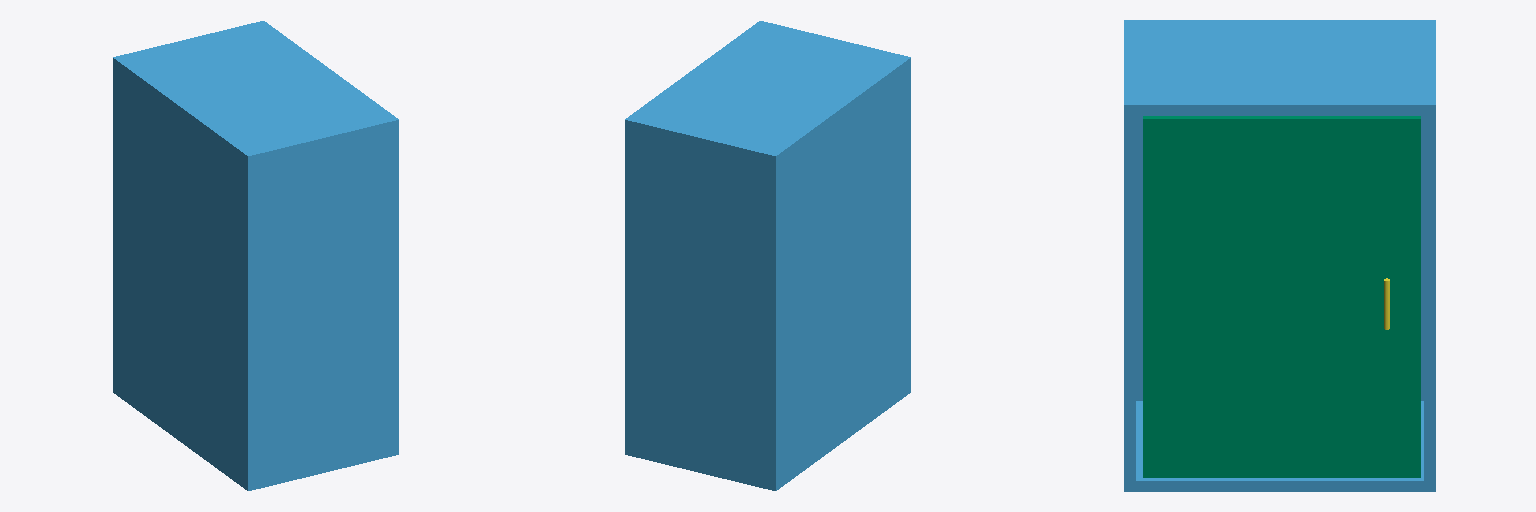
The robot description file, URDF, robot "my_cabinet":
<?xml version="1.0" ?>
<robot name="my_cabinet">
	<link name="world"/>
	<joint name="virtual_joint" type="fixed">
		<parent link="world"/>
		<child link="base_cabinet_link"/>
		<origin xyz="0.0 0.0 0.0" rpy="0.0 0.0 0.0"/>
	</joint>
	<link name="base_cabinet_link">
		<visual>
			<origin xyz="0.0 -0.0025 -0.30871331268416435" rpy="0.0 0.0 0.0"/>
			<geometry>
				<box size="0.3 0.4656252612158338 0.018"/>
			</geometry>
		</visual>
		<collision name="base_cabinet_link_collision_0">
			<origin xyz="0.0 -0.0025 -0.30871331268416435" rpy="0.0 0.0 0.0"/>
			<geometry>
				<box size="0.3 0.4656252612158338 0.018"/>
			</geometry>
		</collision>
		<visual>
			<origin xyz="0.0 0.22131263060791692 0.0" rpy="0.0 0.0 0.0"/>
			<geometry>
				<box size="0.3 0.018 0.6354266253683287"/>
			</geometry>
		</visual>
		<collision name="base_cabinet_link_collision_1">
			<origin xyz="0.0 0.22131263060791692 0.0" rpy="0.0 0.0 0.0"/>
			<geometry>
				<box size="0.3 0.018 0.6354266253683287"/>
			</geometry>
		</collision>
		<visual>
			<origin xyz="0.0 -0.22631263060791693 0.0" rpy="0.0 0.0 0.0"/>
			<geometry>
				<box size="0.3 0.018 0.6354266253683287"/>
			</geometry>
		</visual>
		<collision name="base_cabinet_link_collision_2">
			<origin xyz="0.0 -0.22631263060791693 0.0" rpy="0.0 0.0 0.0"/>
			<geometry>
				<box size="0.3 0.018 0.6354266253683287"/>
			</geometry>
		</collision>
		<visual>
			<origin xyz="0.0 -0.0025 0.30871331268416435" rpy="0.0 0.0 0.0"/>
			<geometry>
				<box size="0.3 0.4656252612158338 0.018"/>
			</geometry>
		</visual>
		<collision name="base_cabinet_link_collision_3">
			<origin xyz="0.0 -0.0025 0.30871331268416435" rpy="0.0 0.0 0.0"/>
			<geometry>
				<box size="0.3 0.4656252612158338 0.018"/>
			</geometry>
		</collision>
		<visual>
			<origin xyz="-0.141 -0.0025 0.0" rpy="0.0 0.0 0.0"/>
			<geometry>
				<box size="0.018 0.4656252612158338 0.6354266253683287"/>
			</geometry>
		</visual>
		<collision name="base_cabinet_link_collision_4">
			<origin xyz="-0.141 -0.0025 0.0" rpy="0.0 0.0 0.0"/>
			<geometry>
				<box size="0.018 0.4656252612158338 0.6354266253683287"/>
			</geometry>
		</collision>
		<inertial>
			<mass value="0.200000"/>
			<inertia ixx="0.010343" ixy="0.0" ixz="0.0" iyy="0.008229" iyz="0.0" izz="0.005113"/>
		</inertial>
	</link>
	<link name="door_link">
		<visual>
			<origin xyz="0.0 -0.2073126306079169 0.0"/>
			<geometry>
				<box size="0.018 0.4146252612158338 0.5894266253683287"/>
			</geometry>
		</visual>
		<collision name="door_link_collision">
			<origin xyz="0.0 -0.2073126306079169 0.0"/>
			<geometry>
				<box size="0.018 0.4146252612158338 0.5894266253683287"/>
			</geometry>
		</collision>
		<inertial>
			<mass value="0.200000"/>
			<inertia ixx="0.008656" ixy="0.0" ixz="0.0" iyy="0.005796" iyz="0.0" izz="0.002871"/>
		</inertial>
	</link>
	<joint name="door_joint" type="revolute">
		<origin xyz="0.141 -0.2073126306079169 0.0" rpy="0.000000 -0.000000 3.141593"/>
		<axis xyz="0 0 1"/>
		<parent link="base_cabinet_link"/>
		<child link="door_link"/>
		<limit effort="50" lower="-1.658062789394613" upper="0" velocity="10"/>
		<dynamics friction="3.5" damping="3.5"/>
	</joint>
	<link name="handle_link">
		<visual>
			<origin xyz="0.0 0.0 0.0" rpy="0.0 0.0 0.0"/>
			<geometry>
				<cylinder length="0.08" radius="0.005"/>
			</geometry>
		</visual>
		<collision name="handle_link_collision_0">
			<origin xyz="0.0 0.0 0.0" rpy="0.0 0.0 0.0"/>
			<geometry>
				<cylinder length="0.08" radius="0.005"/>
			</geometry>
		</collision>
		<visual>
			<origin xyz="-0.01 0.0 0.02" rpy="0.0 1.5707963267948966 0.0"/>
			<geometry>
				<cylinder length="0.02" radius="0.003"/>
			</geometry>
		</visual>
		<collision name="handle_link_collision_1">
			<origin xyz="-0.01 0.0 0.02" rpy="0.0 1.5707963267948966 0.0"/>
			<geometry>
				<cylinder length="0.01" radius="0.003"/>
			</geometry>
		</collision>
		<visual>
			<origin xyz="-0.01 0.0 -0.02" rpy="0.0 1.5707963267948966 0.0"/>
			<geometry>
				<cylinder length="0.02" radius="0.003"/>
			</geometry>
		</visual>
		<collision name="handle_link_collision_2">
			<origin xyz="-0.01 0.0 -0.02" rpy="0.0 1.5707963267948966 0.0"/>
			<geometry>
				<cylinder length="0.02" radius="0.003"/>
			</geometry>
		</collision>
		<inertial>
			<mass value="0.050000"/>
			<inertia ixx="0.000027" ixy="0.0" ixz="0.0" iyy="0.000029" iyz="0.0" izz="0.000003"/>
		</inertial>
	</link>
	<joint name="handle_joint" type="fixed">
		<origin xyz="-0.028999999999999998 -0.36462526121583383 0.0" rpy="0.000000 -0.000000 3.141593"/>
		<parent link="door_link"/>
		<child link="handle_link"/>
	</joint>
	<gazebo reference="base_cabinet_link">
		<sensor name="main_sensor" type="contact">
			<selfCollide>true</selfCollide>
			<alwaysOn>true</alwaysOn>
			<updateRate>5.0</updateRate>
			<material>Gazebo/Red</material>
			<contact>
				<collision>base_cabinet_link_collision_0_collision</collision>
				<collision>base_cabinet_link_collision_1_collision</collision>
				<collision>base_cabinet_link_collision_2_collision</collision>
				<collision>base_cabinet_link_collision_3_collision</collision>
				<collision>base_cabinet_link_collision_4_collision</collision>
			</contact>
			<plugin name="gazebo_ros_bumper_controller" filename="libgazebo_ros_bumper.so">
				<bumperTopicName>/contact</bumperTopicName>
				<frameName>world</frameName>
			</plugin>
		</sensor>
	</gazebo>
	<gazebo reference="door_link">
		<sensor name="main_sensor" type="contact">
			<selfCollide>true</selfCollide>
			<alwaysOn>true</alwaysOn>
			<updateRate>5.0</updateRate>
			<material>Gazebo/Red</material>
			<contact>
				<collision>door_link_collision_collision</collision>
			</contact>
			<plugin name="gazebo_ros_bumper_controller" filename="libgazebo_ros_bumper.so">
				<bumperTopicName>/contact_door</bumperTopicName>
				<frameName>contact_door</frameName>
			</plugin>
		</sensor>
	</gazebo>
	<gazebo reference="door_link">
		<mu>3.0</mu>
		<mu2>3.0</mu2>
		<kp>10000000</kp>
		<kd>100</kd>
	</gazebo>
</robot>

--- Facts derived from the render (not from the file) ---
3 views of the same robot in one strip: view 1: azimuth 30°, elevation 25°; view 2: azimuth 150°, elevation 25°; view 3: azimuth 270°, elevation 25° (orthographic).
Model my_cabinet with 4 links and 3 joints (1 revolute, 2 fixed), rooted at world, posed all joints at 0.
Links seen in each view (by area): view 1: base_cabinet_link; view 2: base_cabinet_link; view 3: door_link, base_cabinet_link.
Link boxes in pixels (<box>): base_cabinet_link: <box>113,21,398,490</box>; base_cabinet_link: <box>625,21,910,490</box>; door_link: <box>1143,116,1420,477</box>; base_cabinet_link: <box>1124,20,1435,491</box>.
Bounding box of the posed robot: 0.325 × 0.4656 × 0.6354 m (x, y, z).
Geometry: primitives only (box / cylinder / sphere), no mesh files.
